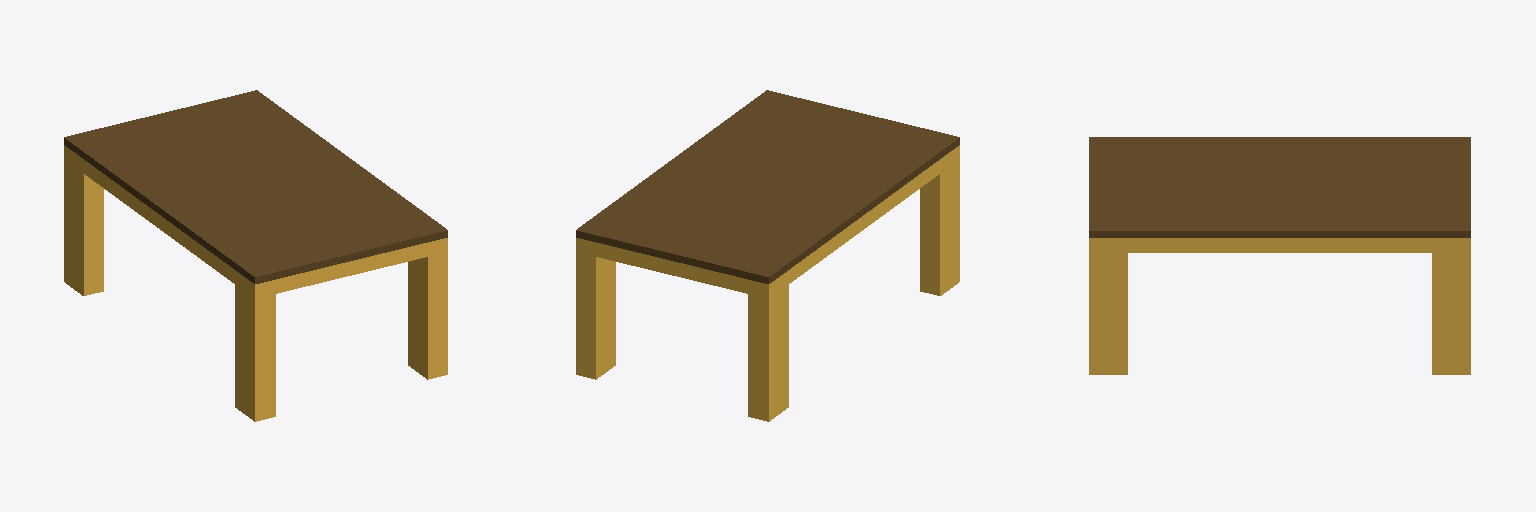
The picture shows the model from 3 angles: view 1: azimuth 30°, elevation 25°; view 2: azimuth 150°, elevation 25°; view 3: azimuth 270°, elevation 25°; orthographic projection.
Visible parts, largest first — view 1: Table_No_Cloth; view 2: Table_No_Cloth; view 3: Table_No_Cloth.
Boxes of the visible parts, box(x1,y1,x2,y2) form: Table_No_Cloth: box(64, 90, 447, 421); Table_No_Cloth: box(576, 90, 959, 421); Table_No_Cloth: box(1089, 137, 1470, 374).
Bounding box in the file's own units: 2.8 × 2 × 4.8.
Materials: 1 (1 with a texture image).